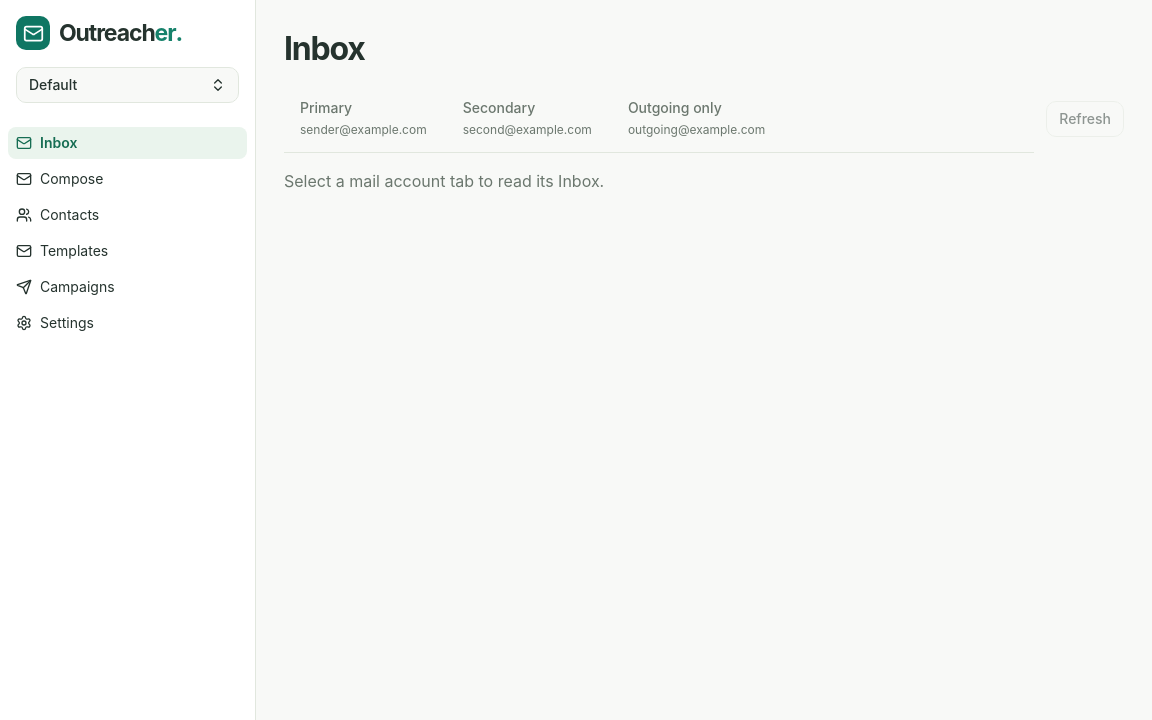
it: supports manual keyboard activation and shows setup guidance for accounts without incoming mail
Click the tab "Primary sender@example.com": click(363, 119) [284, 86, 443, 152]
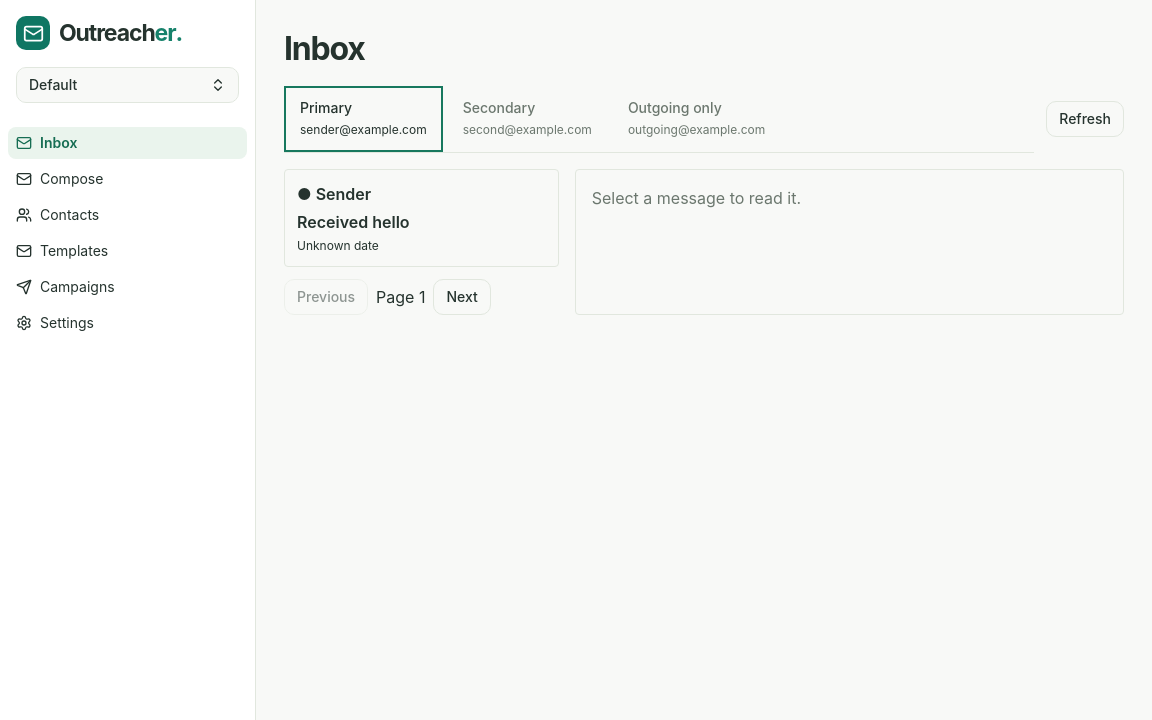
Check: the button "● Sender Received hello Unknown date" is shown, box [285, 170, 558, 266]
Press Arrowright
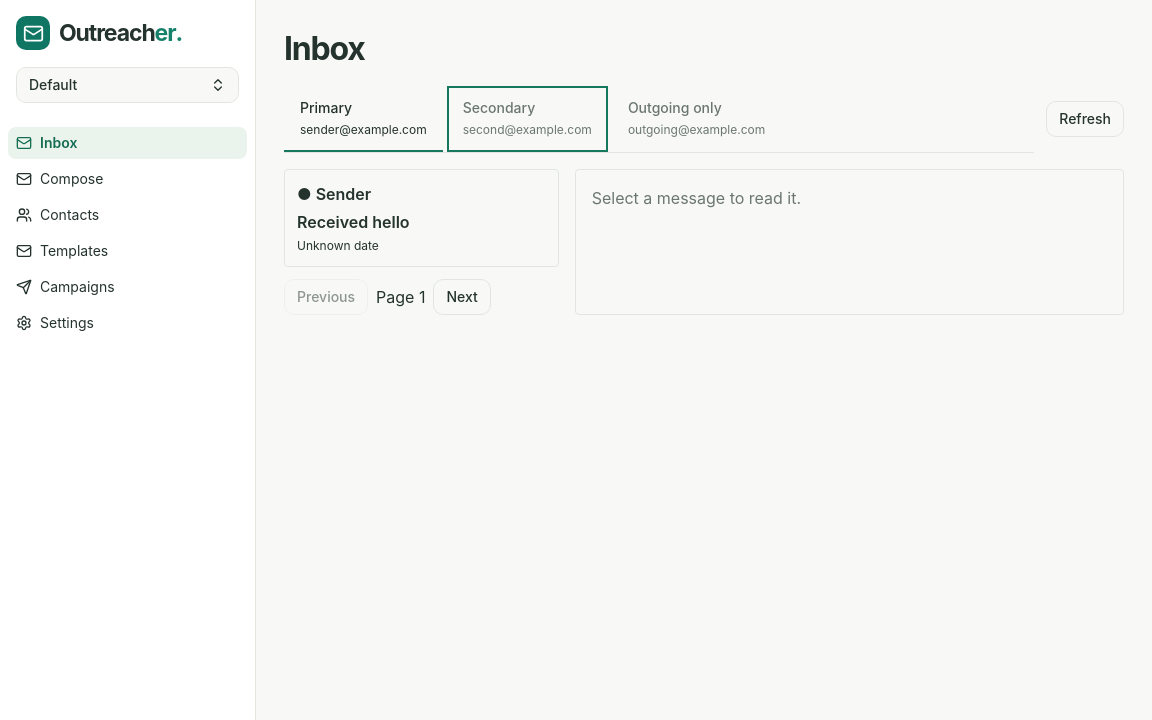
Check: the tab "Primary sender@example.com" is selected, box [284, 86, 443, 152]
Press Enter
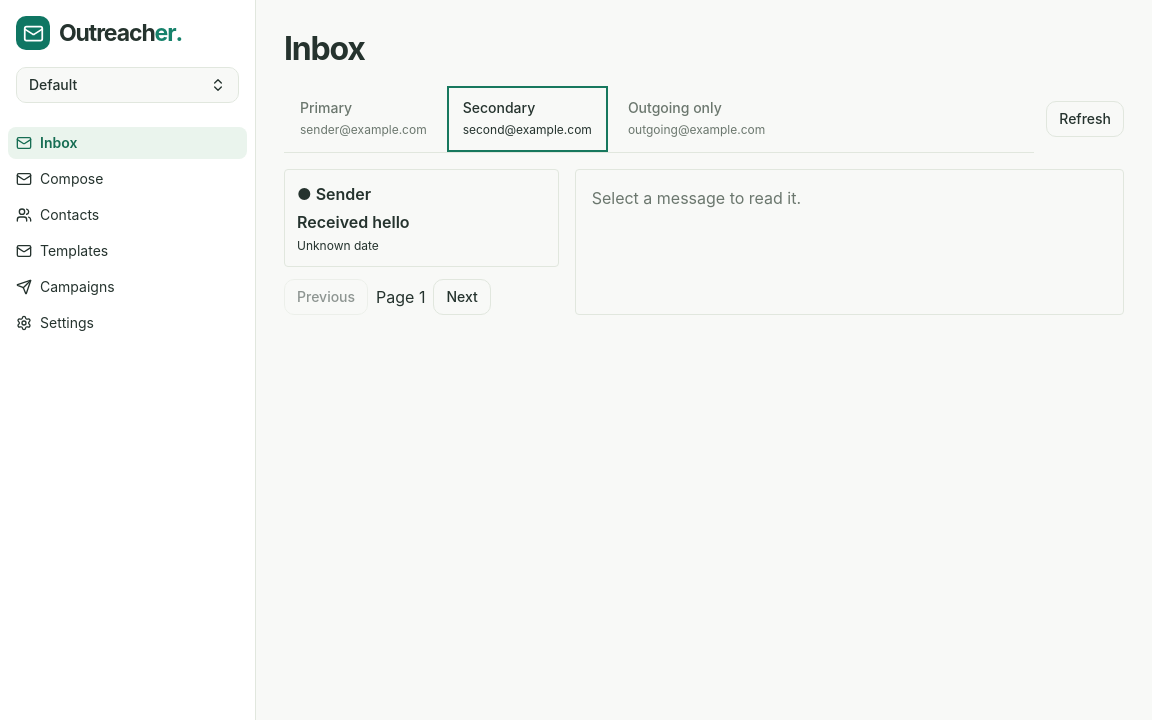
Check: the panel named "Secondary" is shown, box [284, 169, 1124, 315]
Check: the button "● Sender Received hello Unknown date" is shown, box [285, 170, 558, 266]
Click the tab "Outgoing only outgoing@example.com": click(697, 119) [612, 86, 781, 152]
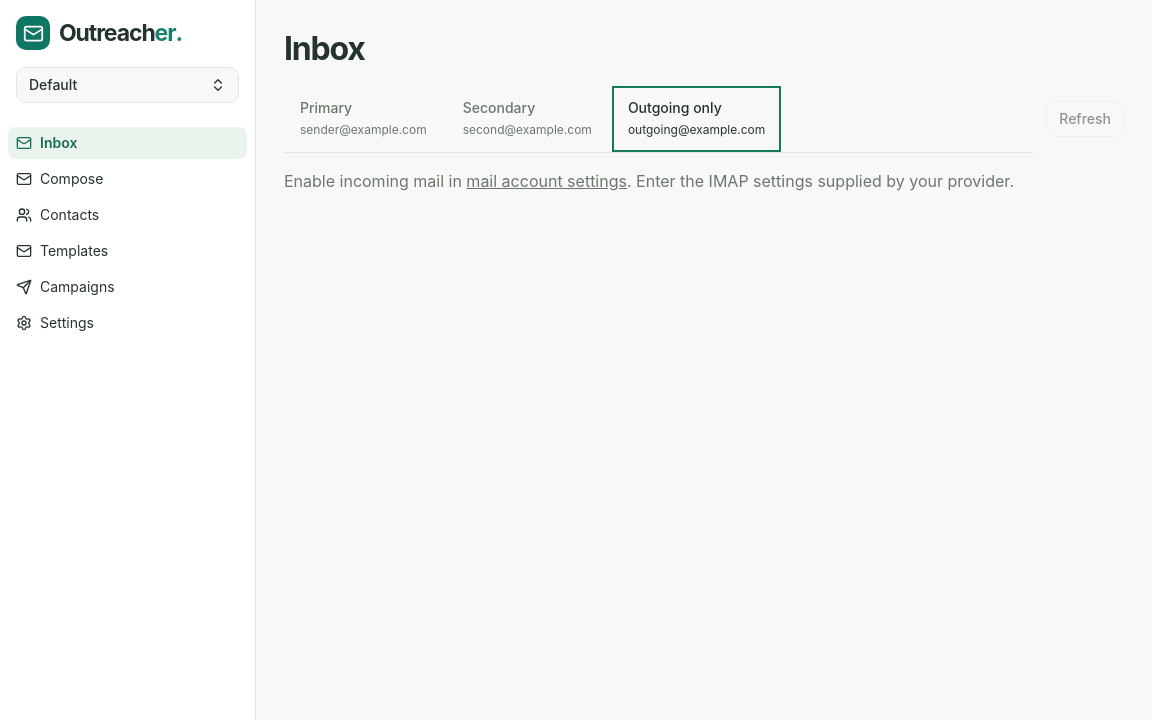
Check: the link "mail account settings" is shown, box [466, 171, 627, 191]
Check: the button "Refresh" is disabled, box [1046, 101, 1124, 137]
